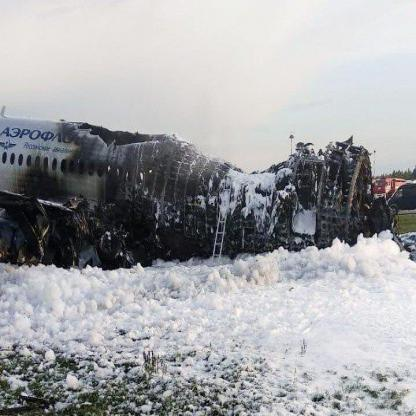CIV_Plane: (0, 102, 382, 276)
